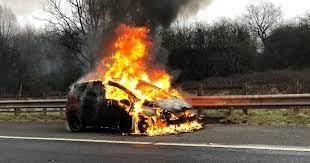fire: (99, 25, 175, 131), (178, 122, 203, 132)
